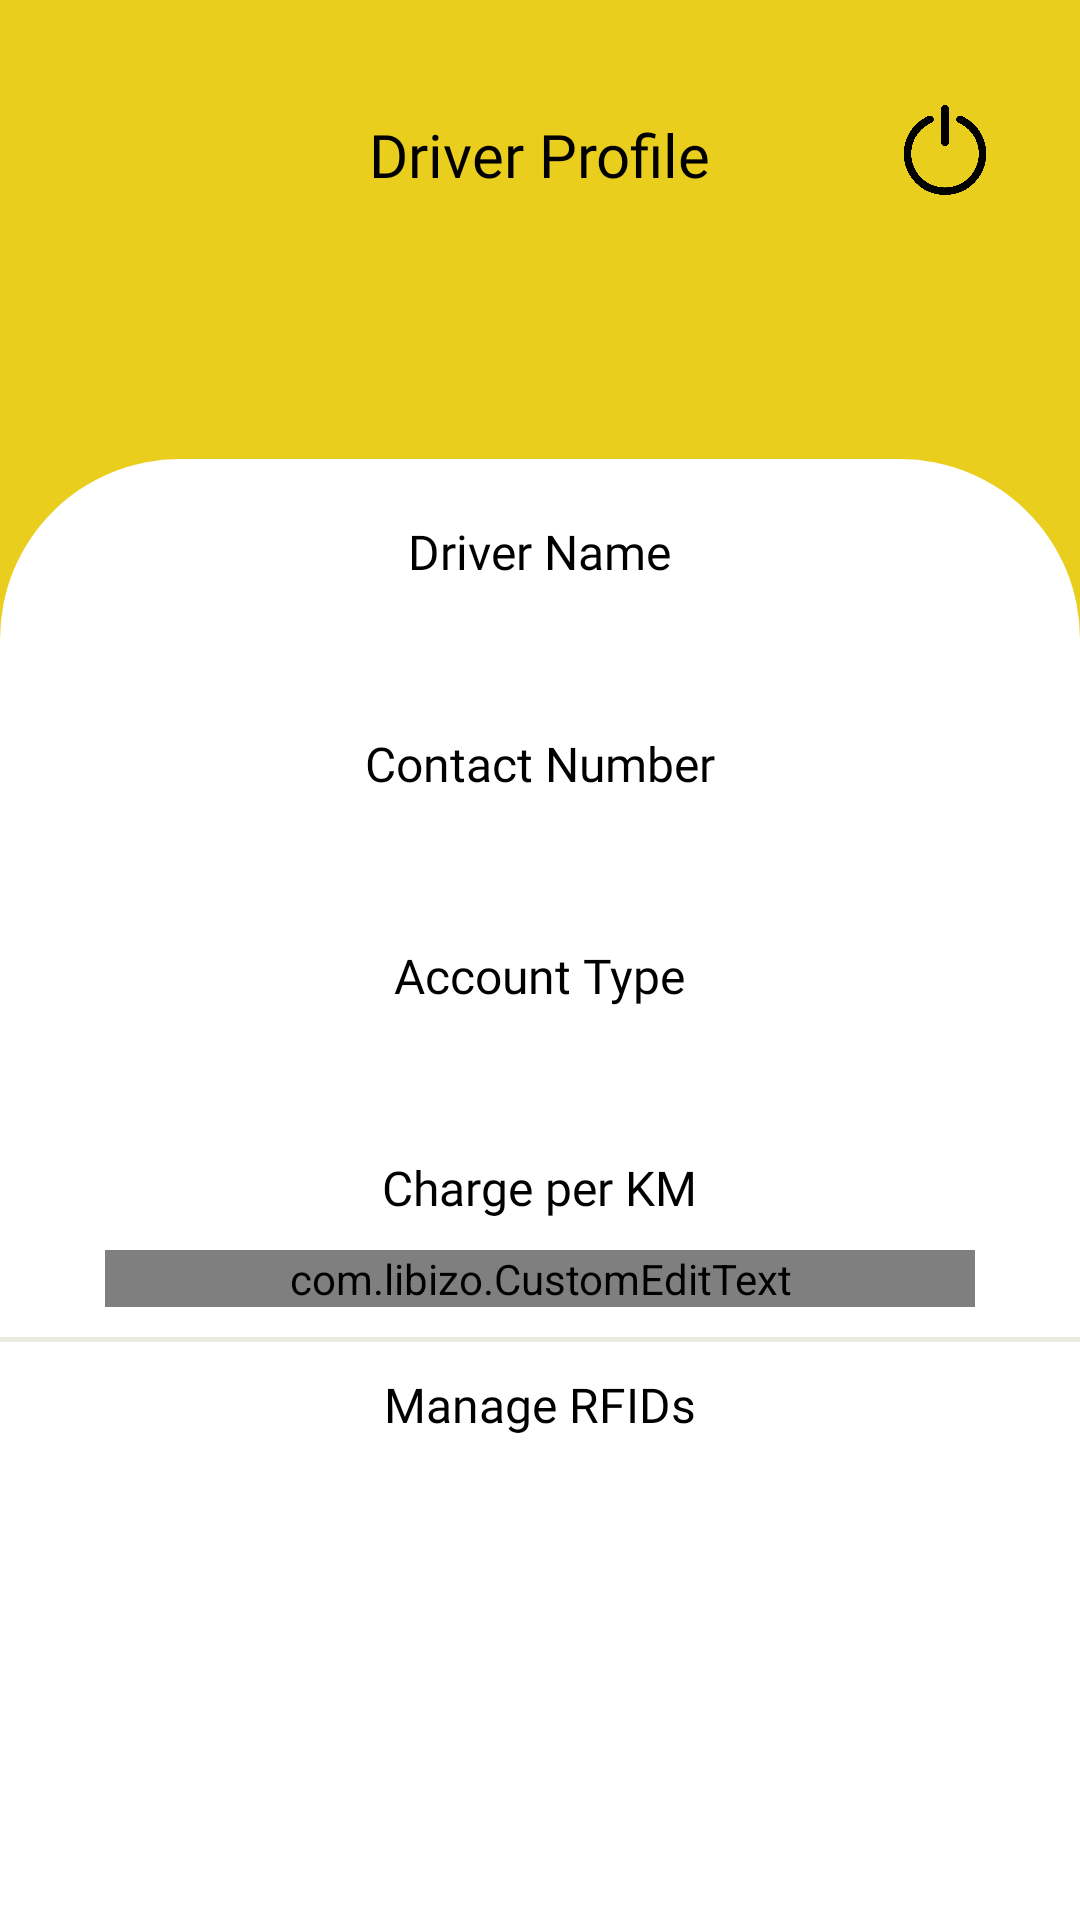

Icon click points for this 1080x1920 phone screenshot, format [x,y]:
turn off: [945,150]
